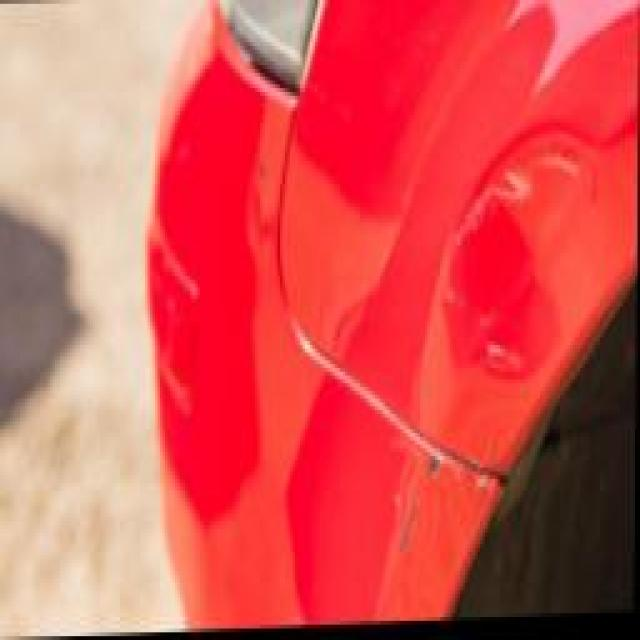Bumper: (195, 418, 502, 632)
Fender: (392, 69, 638, 457)
